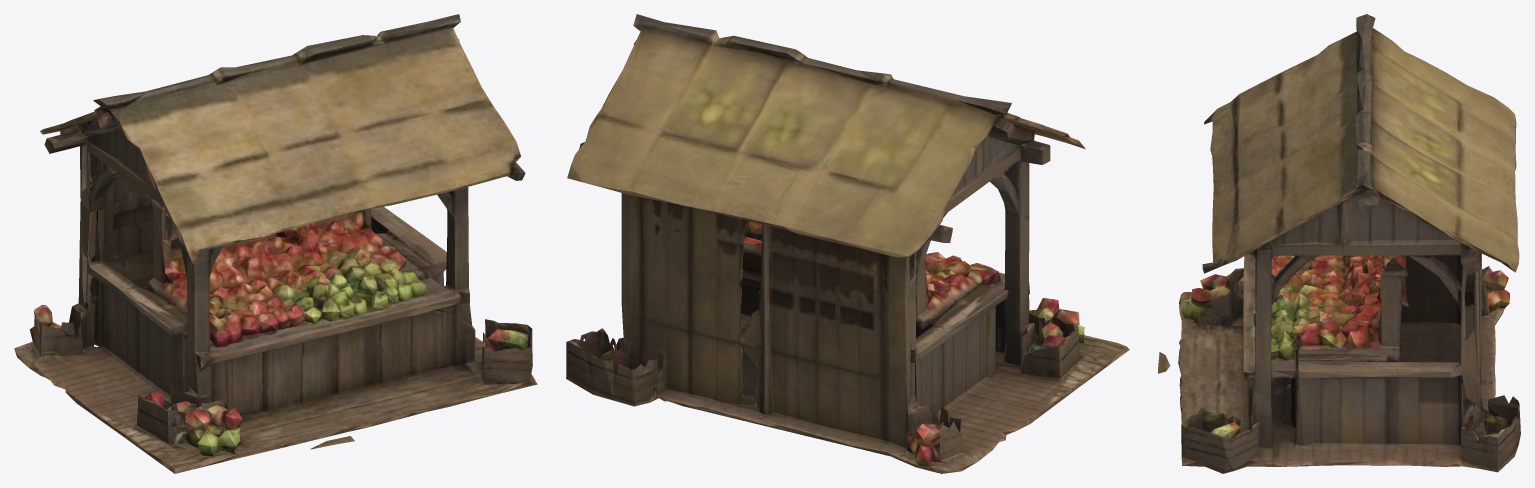
File: stall_apples_lod0.glb
3 views of the same model, side by side, from view 1: azimuth 30°, elevation 25°; view 2: azimuth 150°, elevation 25°; view 3: azimuth 270°, elevation 25° (orthographic). The views are drawn at different scales.
Parts seen in each view (by area): view 1: stall_apples_lod0; view 2: stall_apples_lod0; view 3: stall_apples_lod0.
Part boxes in pixels (x1,y1,x2,y2): stall_apples_lod0: (14,14,537,473); stall_apples_lod0: (566,14,1129,473); stall_apples_lod0: (1158,14,1520,473).
Bounding box in the file's own units: 3.98 × 2.99 × 3.37.
1 material, 1 textured.
